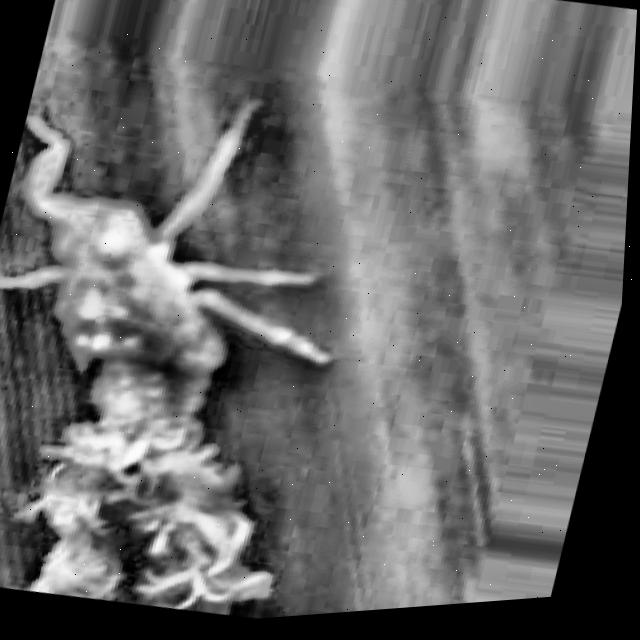Pyrilla-perpusilla: (0, 70, 417, 640)
